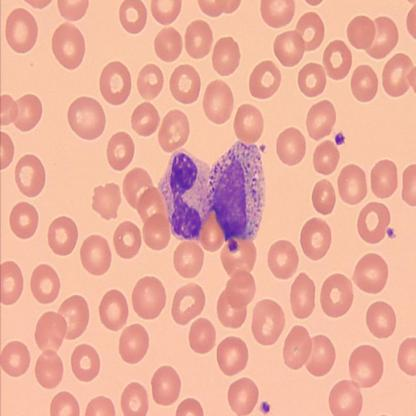Myelocyte: (212, 139, 264, 239), (156, 146, 210, 239)
